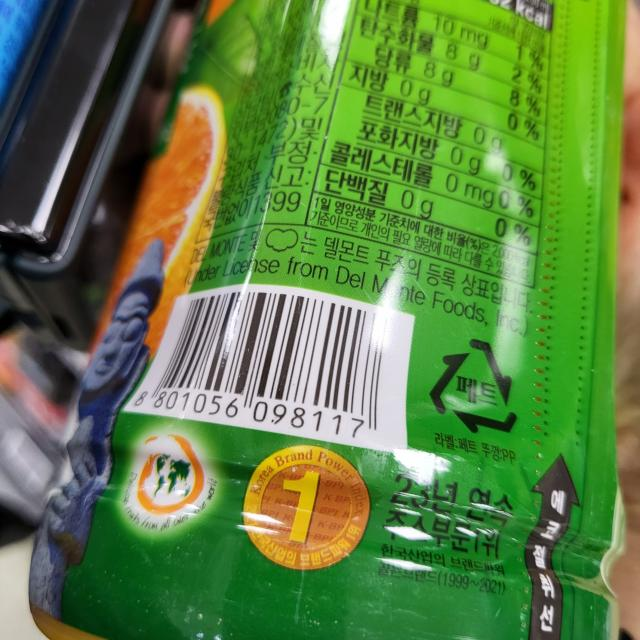PET: (428, 336, 522, 436)
